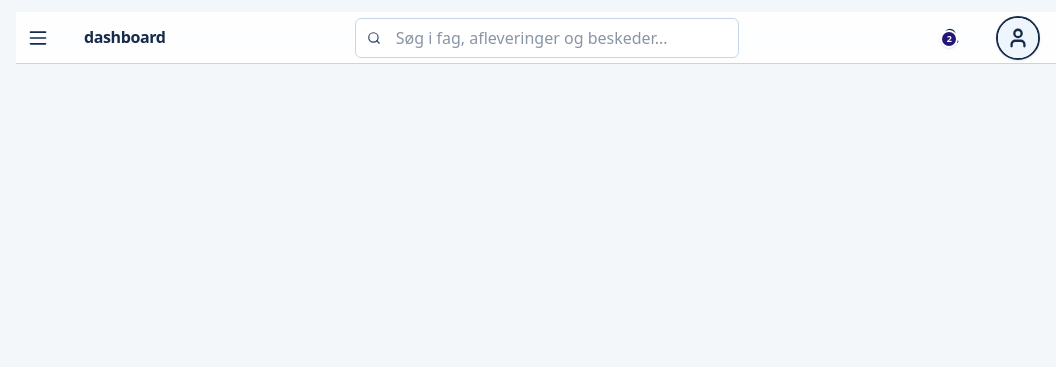
Topbar › shows no results message
Type "NonExistent" into the dropdown with placeholder "Søg i fag, afleveringer og beskeder..." at (547, 38), box [355,18,739,58]
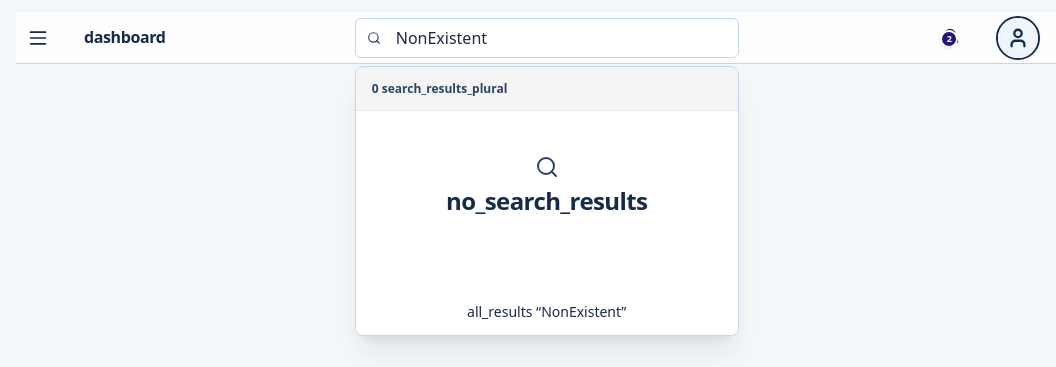
Now the heading "no_search_results" is shown, box [446,187,647,216]
